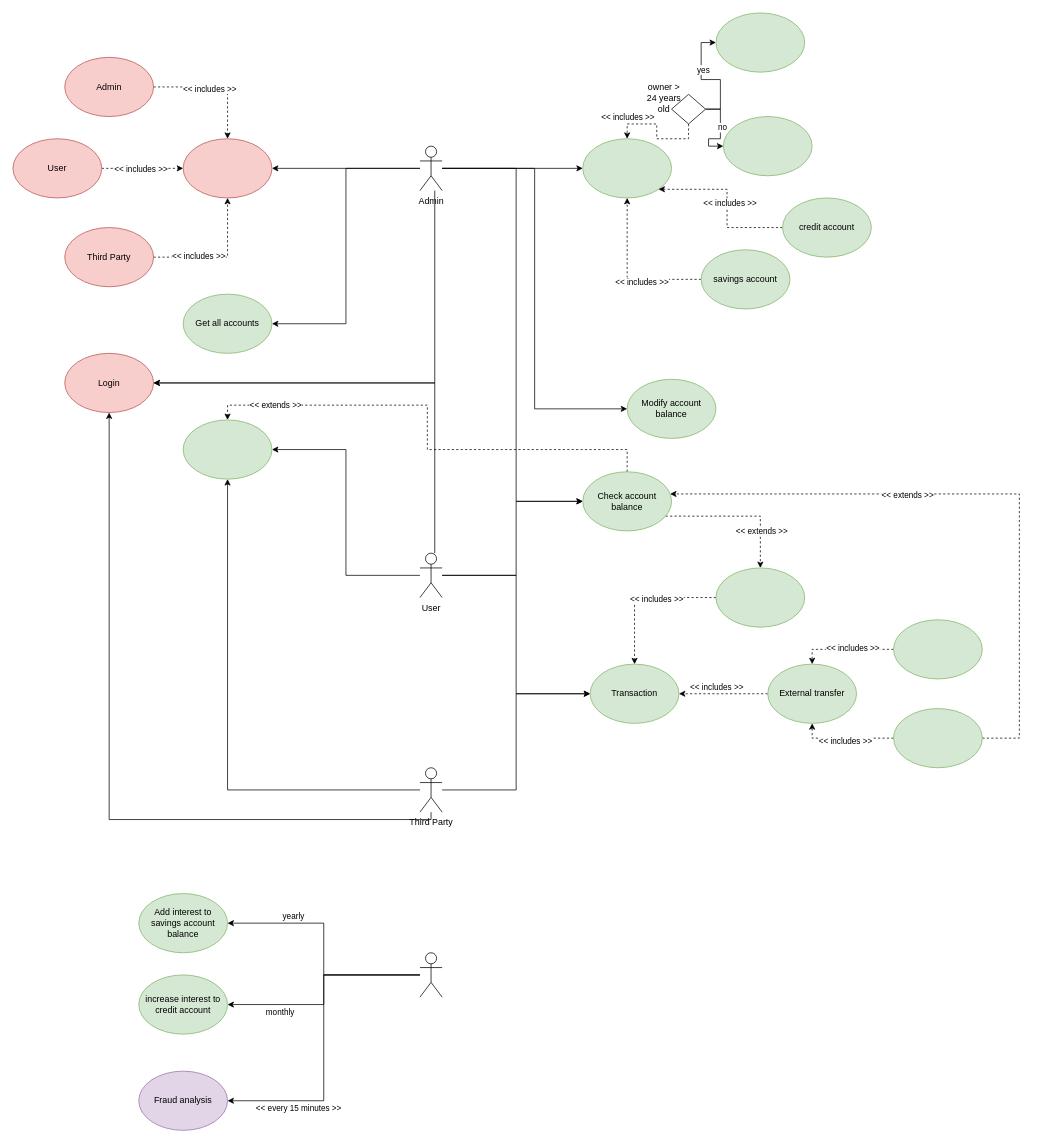
The diagram is 1038 pixels wide and 1143 high, and some of its shapes have lost their labels. Here are the shapes that lost their labels. From the top down, the box of each, then its label:
(715, 12, 805, 72): checking account
(723, 116, 812, 176): student account
(182, 138, 272, 198): Create user
(582, 138, 672, 198): Create account
(182, 419, 272, 479): Get own accounts
(715, 567, 805, 627): Transfer between accounts
(893, 619, 982, 679): Deposit
(893, 708, 982, 768): Withdrawal
(419, 952, 442, 997): Cron
